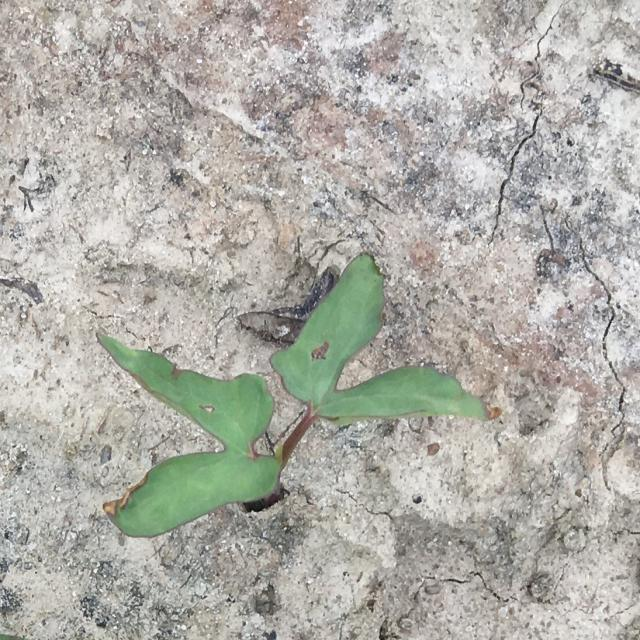MorningGlory: (95, 252, 499, 538)
